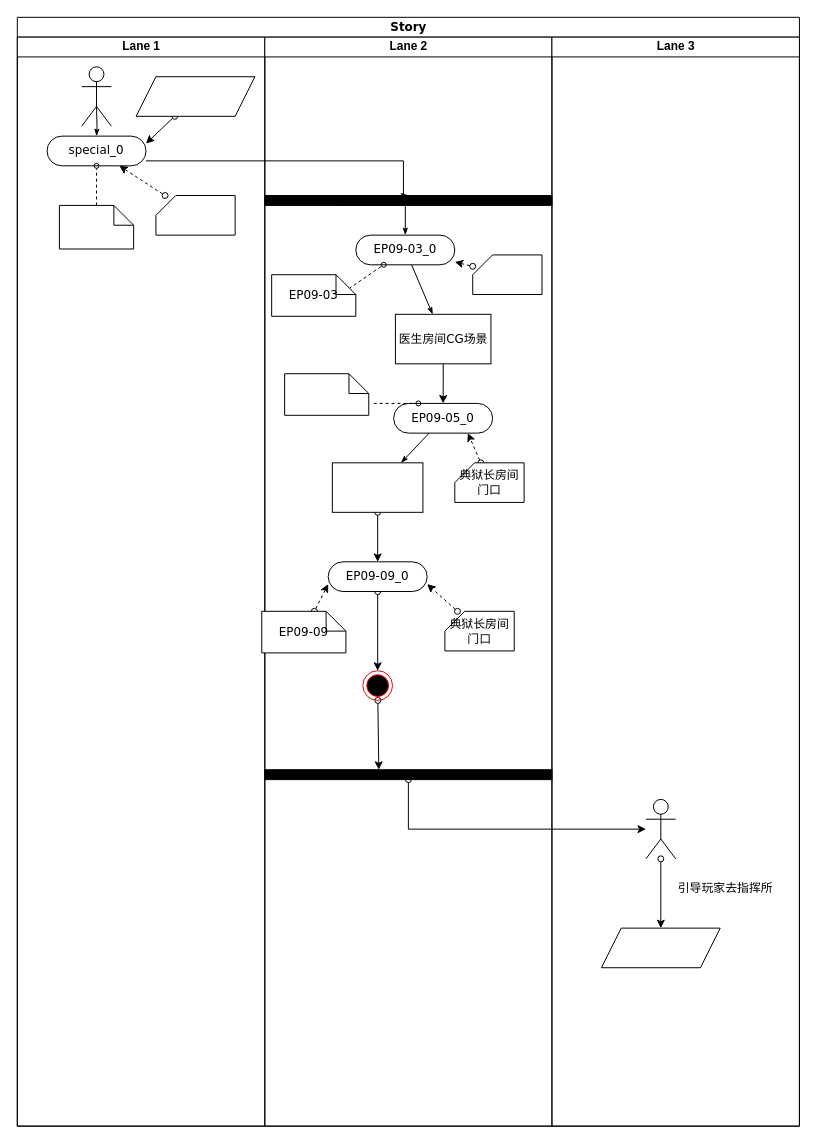
Some shapes in this 817 by 1143 pixel diagram are drawn without their labels. The shapes that lost their labels are listed below. From the top down, each one's centre as x and y in pixels, then its label:
the point at 195,96: 指挥所2F
the point at 96,226: special
the point at 195,215: 出生点
the point at 507,274: 医生房间门口
the point at 326,394: EP09-05
the point at 377,487: 监狱长房间CG场景
the point at 660,947: 指挥所1F
